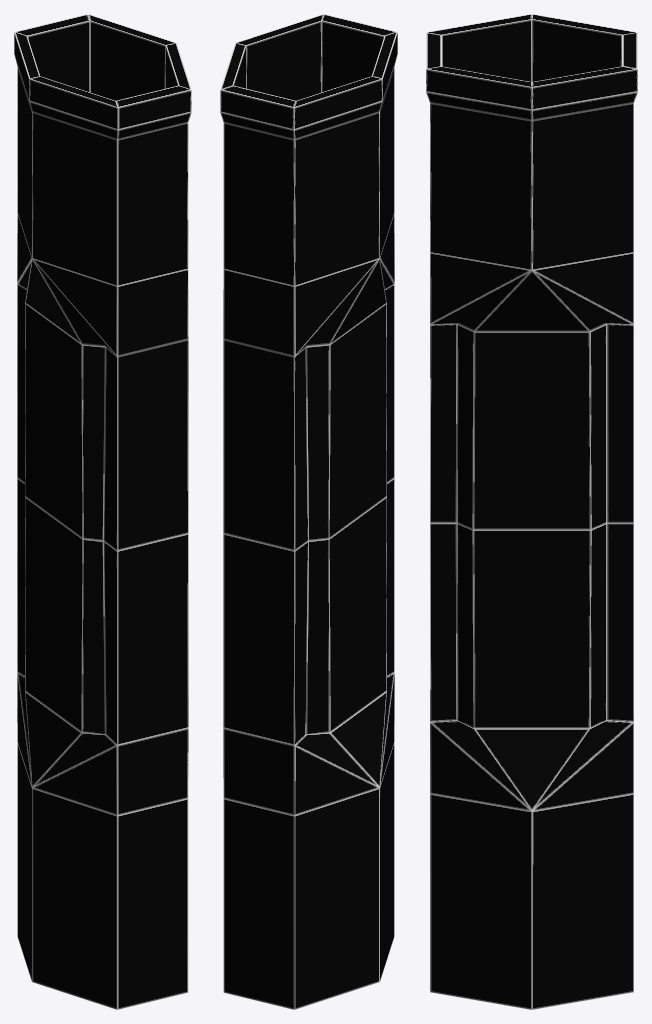
3 renders of one model, left to right at view 1: azimuth 30°, elevation 25°; view 2: azimuth 150°, elevation 25°; view 3: azimuth 270°, elevation 25°, orthographic. The views are drawn at different scales.
Visible parts, largest first — view 1: DD_05; view 2: DD_05; view 3: DD_05.
Boxes of the visible parts, box(x1,y1,x2,y2) form: DD_05: box(14, 14, 191, 1009); DD_05: box(220, 14, 397, 1009); DD_05: box(426, 14, 637, 1009).
Size of the model in its own units: 242 by 1420 by 295.
1 material, 1 textured.
